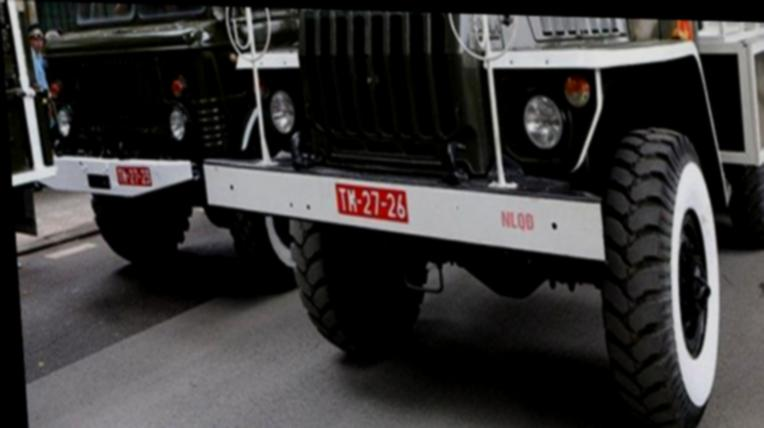License_Plate: (333, 182, 413, 224), (116, 163, 155, 191)
